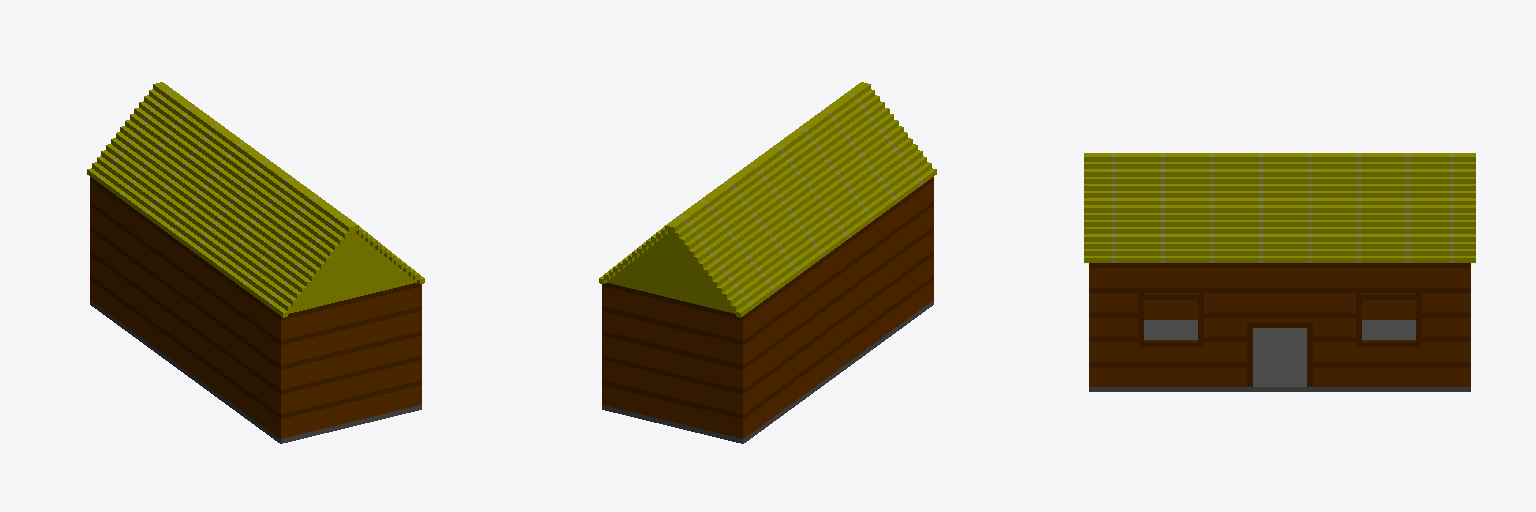
3 renders of one model, left to right at view 1: azimuth 30°, elevation 25°; view 2: azimuth 150°, elevation 25°; view 3: azimuth 270°, elevation 25°, orthographic.
Bounding box in the file's own units: 30 × 41 × 72.
Materials: 1 (1 with a texture image).